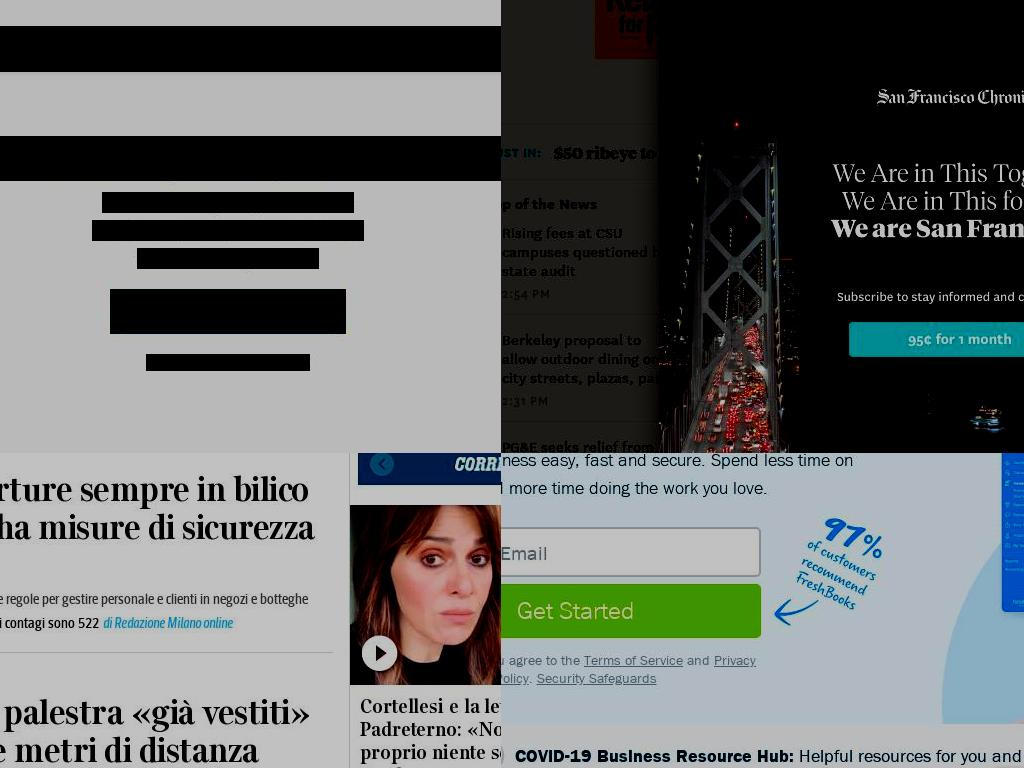button: (659, 0, 1024, 453), (737, 195, 1024, 453), (350, 505, 501, 685), (501, 583, 761, 638), (110, 289, 346, 334), (502, 223, 676, 280), (502, 330, 676, 387), (554, 142, 1024, 162), (0, 615, 233, 632), (502, 437, 676, 453)
field: (0, 26, 501, 72), (501, 526, 761, 577)
heading: (0, 136, 501, 181), (0, 507, 315, 548), (0, 692, 310, 733), (0, 469, 309, 510), (360, 695, 501, 768), (0, 730, 259, 768)
iframe: (595, 0, 1024, 59)
image: (659, 0, 1024, 453), (737, 195, 1024, 453), (350, 505, 501, 685), (770, 583, 886, 638), (455, 457, 501, 471), (370, 453, 394, 476)
label: (501, 542, 548, 563)
link: (501, 652, 757, 686), (0, 591, 308, 608), (536, 670, 657, 686), (584, 652, 683, 668)
text: (501, 453, 905, 502), (110, 289, 346, 334), (515, 745, 794, 766), (92, 220, 364, 241), (102, 192, 354, 213), (794, 745, 1024, 766), (137, 248, 319, 269), (517, 596, 634, 624), (0, 454, 333, 463), (0, 673, 333, 682), (501, 195, 676, 211), (502, 285, 676, 299), (502, 392, 676, 406), (99, 616, 233, 632), (0, 615, 99, 632), (501, 652, 584, 668), (249, 354, 310, 371), (146, 354, 206, 371), (501, 141, 541, 162), (206, 354, 249, 371), (683, 652, 714, 668), (528, 670, 537, 686)
